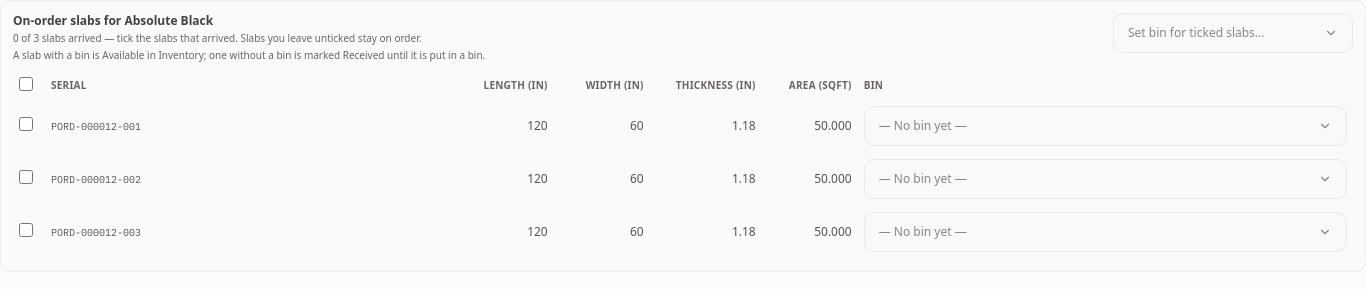
OnOrderSlabChecklist › ticks only the slab that was clicked and reports the new list
Click the checkbox named "Slab PORD-000012-002 arrived" at point(26, 177), box [19,170,33,184]
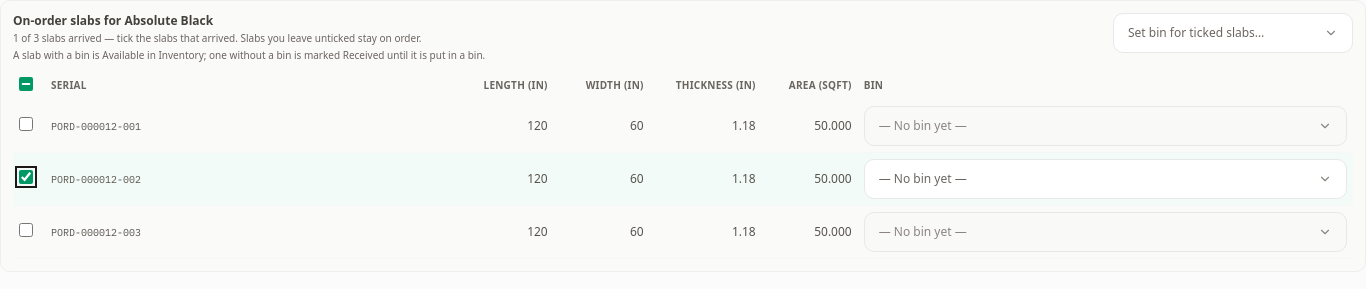
Expected: the checkbox named "Slab PORD-000012-001 arrived" is not checked, [19,117,33,131]
Expected: the checkbox named "Slab PORD-000012-002 arrived" is checked, [19,170,33,184]
Expected: the text with test id "arrival-progress" shows "1 of 3 slabs arrived", [13,31,102,45]
